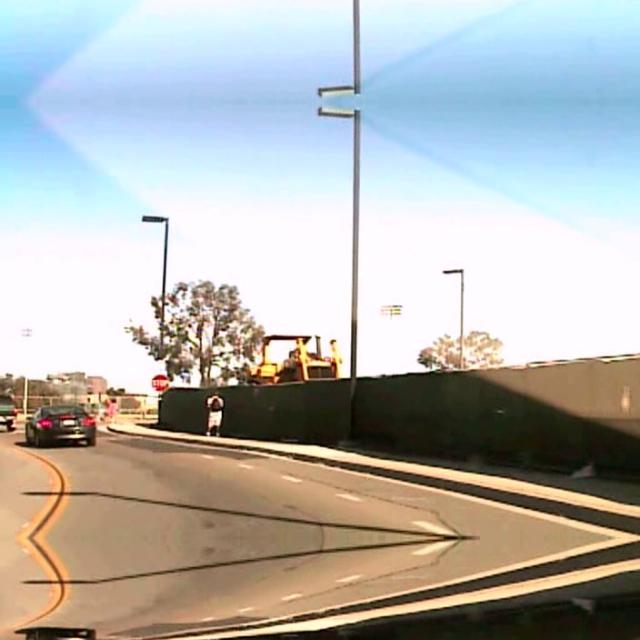stop: (150, 372, 168, 390)
